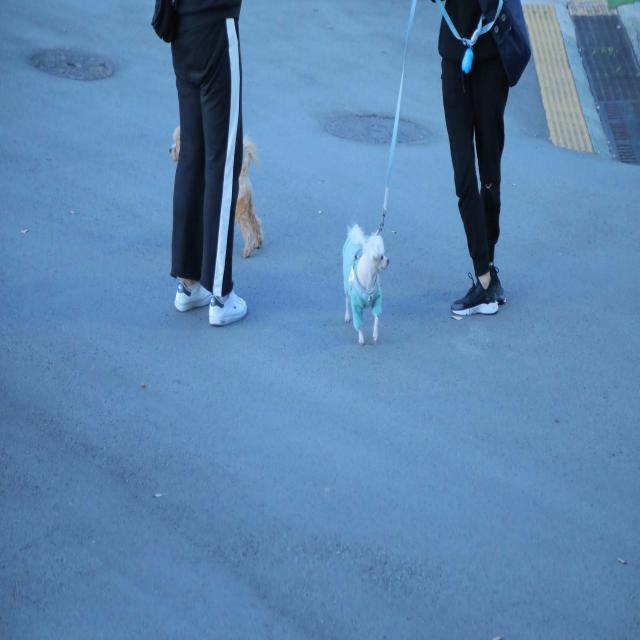Leashed_Dog: (341, 0, 517, 348), (170, 6, 264, 274)
